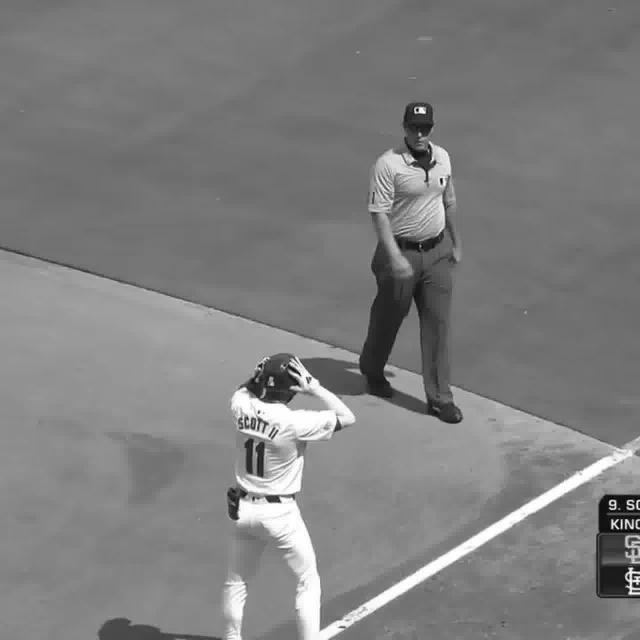shoe: (358, 360, 395, 396), (423, 396, 464, 424)
